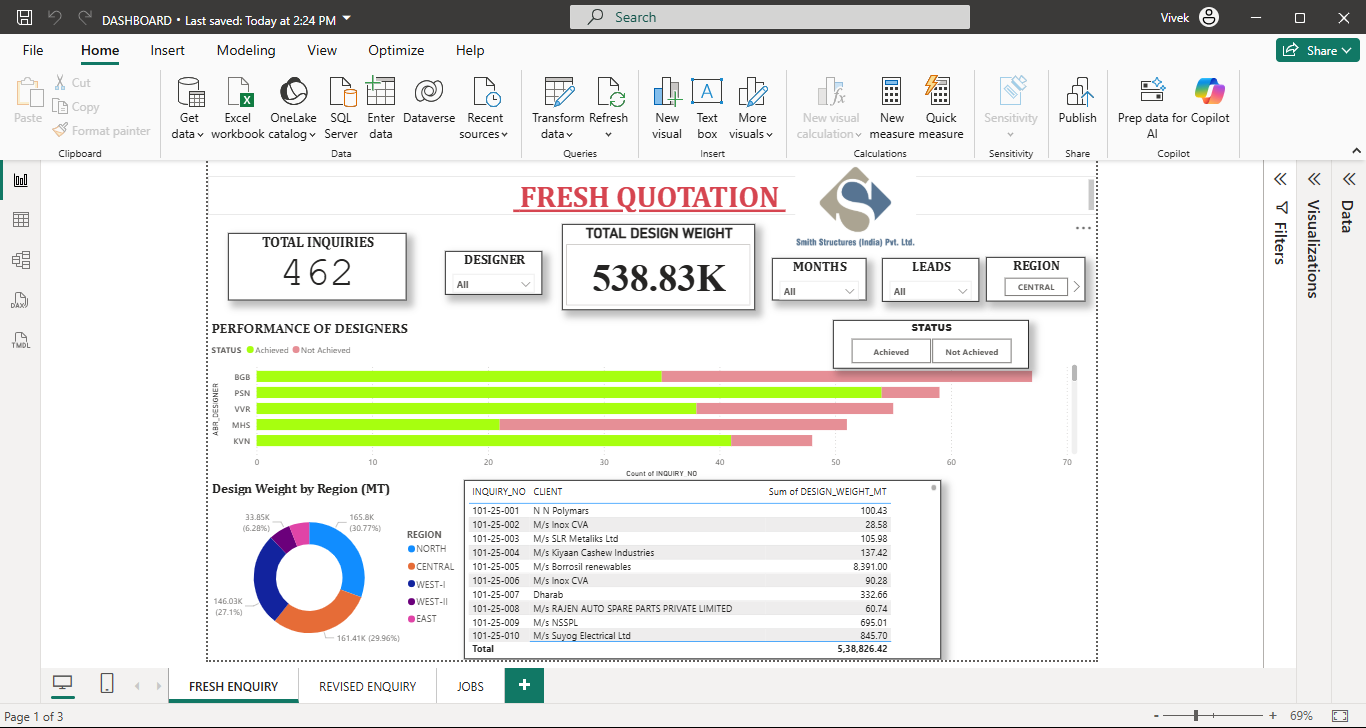

This screenshot's page, from the dashboard's own definition file:
{"tool":"powerbi","page":{"name":"FRESH ENQUIRY","canvas":[1280,720],"ordinal":0},"visuals":[{"type":"barChart","title":"PERFORMANCE OF DESIGNERS","fields":{"Category":["Enquiry Master Fresh- 2025-2026.ABR_DESIGNER"],"Y":["CountNonNull(Enquiry Master Fresh- 2025-2026.INQUIRY_NO)"],"Series":["Enquiry Master Fresh- 2025-2026.STATUS"]},"box":[0,229.9,1256.7,231.3],"z":0},{"type":"donutChart","title":"Design Weight by Region (MT)","fields":{"Category":["Enquiry Master Fresh- 2025-2026.REGION"],"Y":["Sum(Enquiry Master Fresh- 2025-2026.DESIGN_WEIGHT_MT)"]},"box":[0,460.8,368.6,259.2],"z":1000},{"type":"slicer","title":"MONTHS","fields":{"Values":["Enquiry Master Fresh- 2025-2026.RECEIVED MONTH"]},"box":[812.9,141.4,135.7,61.4],"z":2000},{"type":"slicer","title":"DESIGNER","fields":{"Values":["Enquiry Master Fresh- 2025-2026.ABR_DESIGNER"]},"box":[341.7,131.7,140,63.3],"z":3000},{"type":"cardVisual","title":"TOTAL DESIGN WEIGHT","fields":{"Data":["Sum(Enquiry Master Fresh- 2025-2026.DESIGN_WEIGHT_MT)"]},"box":[509.8,92.2,277.9,123.8],"z":4000},{"type":"textbox","box":[0,22.4,1280.6,56.7],"z":5000},{"type":"image","box":[837.3,0,192.5,132.8],"z":6000},{"type":"card","title":"TOTAL INQUIRIES ","fields":{"Values":["Count(Enquiry Master Fresh- 2025-2026.INQUIRY_NO)"]},"box":[28.3,105,256.7,96.7],"z":7000},{"type":"slicer","title":"LEADS","fields":{"Values":["Enquiry Master Fresh- 2025-2026.CHECKED_BY"]},"box":[970,141.4,140,62.9],"z":8000},{"type":"slicer","title":"STATUS","fields":{"Values":["Enquiry Master Fresh- 2025-2026.STATUS"]},"box":[900,229.9,282.1,70.1],"z":9000},{"type":"slicer","title":"REGION","fields":{"Values":["Enquiry Master Fresh- 2025-2026.REGION"]},"box":[1120,140,142.9,64.3],"z":10000},{"type":"tableEx","fields":{"Values":["Enquiry Master Fresh- 2025-2026.INQUIRY_NO","Enquiry Master Fresh- 2025-2026.CLIENT","Sum(Enquiry Master Fresh- 2025-2026.DESIGN_WEIGHT_MT)"]},"box":[368.7,461.2,686.6,258.2],"z":11000}]}

Visuals, with their boxes on the page's 1280x720 design canvas (x1, y1, x2, y2). These are canvas units, not pixel positions in the 1366x728 screenshot, which may show the page scaled, cropped or inside an application window:
"PERFORMANCE OF DESIGNERS" barChart: 0 230 1257 461
"Design Weight by Region (MT)" donutChart: 0 461 369 720
"MONTHS" slicer: 813 141 949 203
"DESIGNER" slicer: 342 132 482 195
"TOTAL DESIGN WEIGHT" cardVisual: 510 92 788 216
textbox: 0 22 1281 79
image: 837 0 1030 133
"TOTAL INQUIRIES " card: 28 105 285 202
"LEADS" slicer: 970 141 1110 204
"STATUS" slicer: 900 230 1182 300
"REGION" slicer: 1120 140 1263 204
tableEx - Enquiry Master Fresh- 2025-2026.INQUIRY_NO x Enquiry Master Fresh- 2025-2026.CLIENT: 369 461 1055 719
